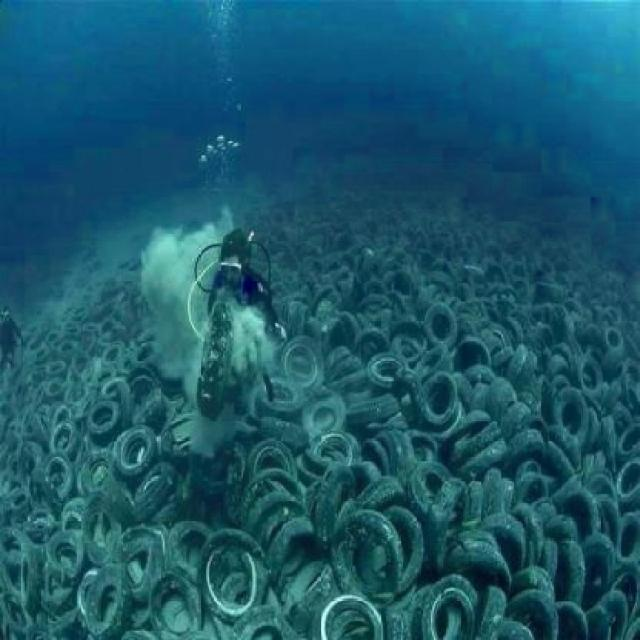tire: (287, 197, 640, 640), (1, 418, 288, 640), (31, 263, 171, 422)
